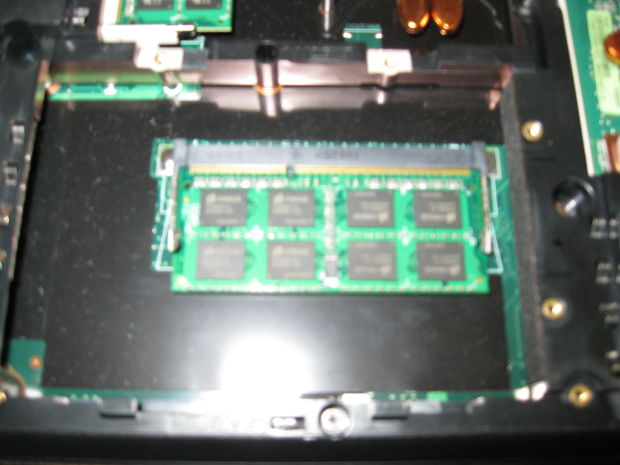ram: (174, 164, 494, 298)
